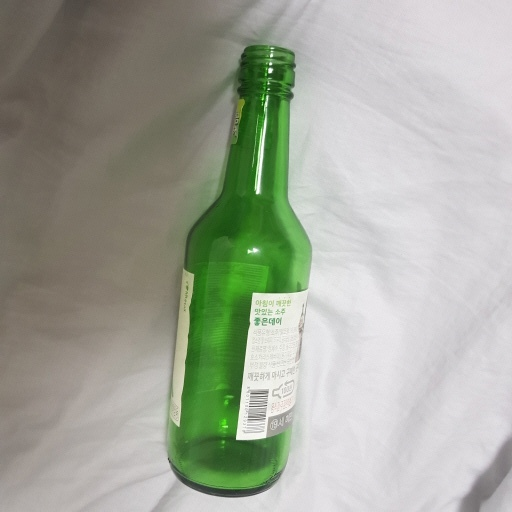Glass_0: (165, 39, 315, 501)
